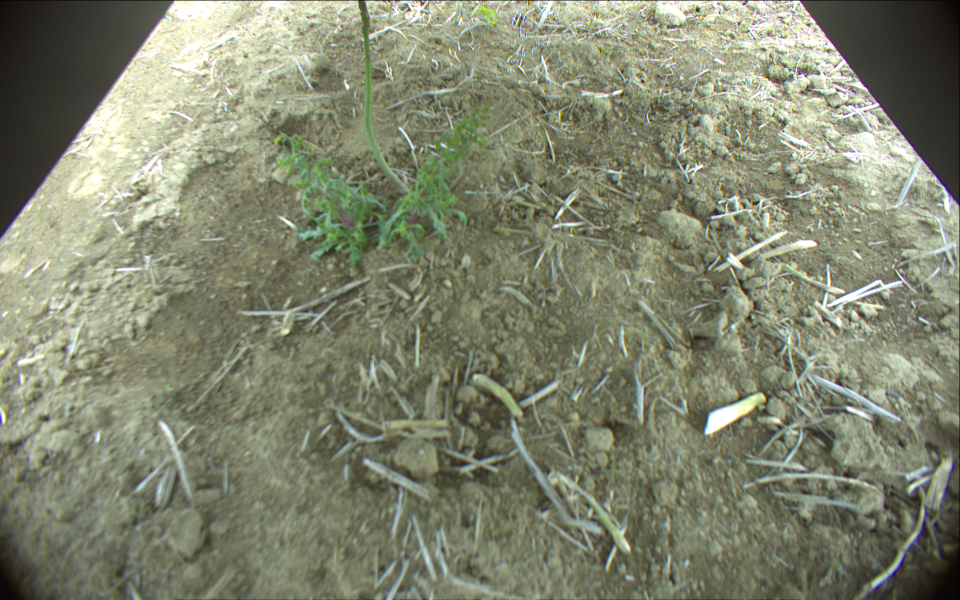aspa: (358, 1, 415, 199), (550, 470, 629, 550)
